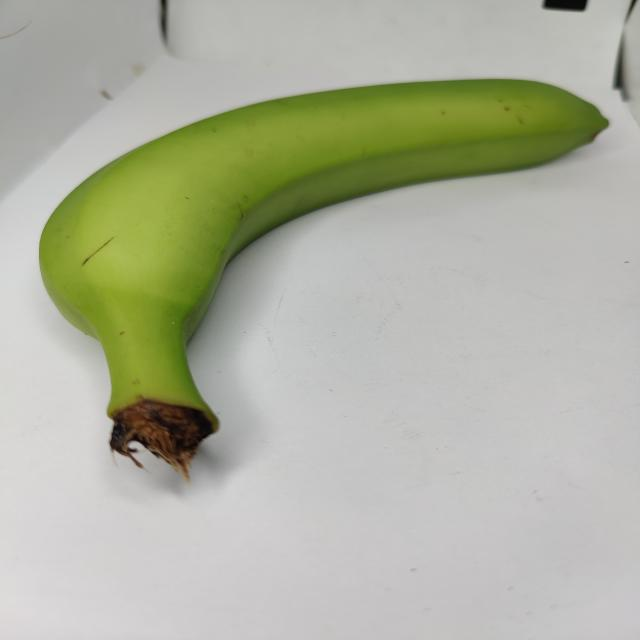raw: (19, 52, 640, 492)
